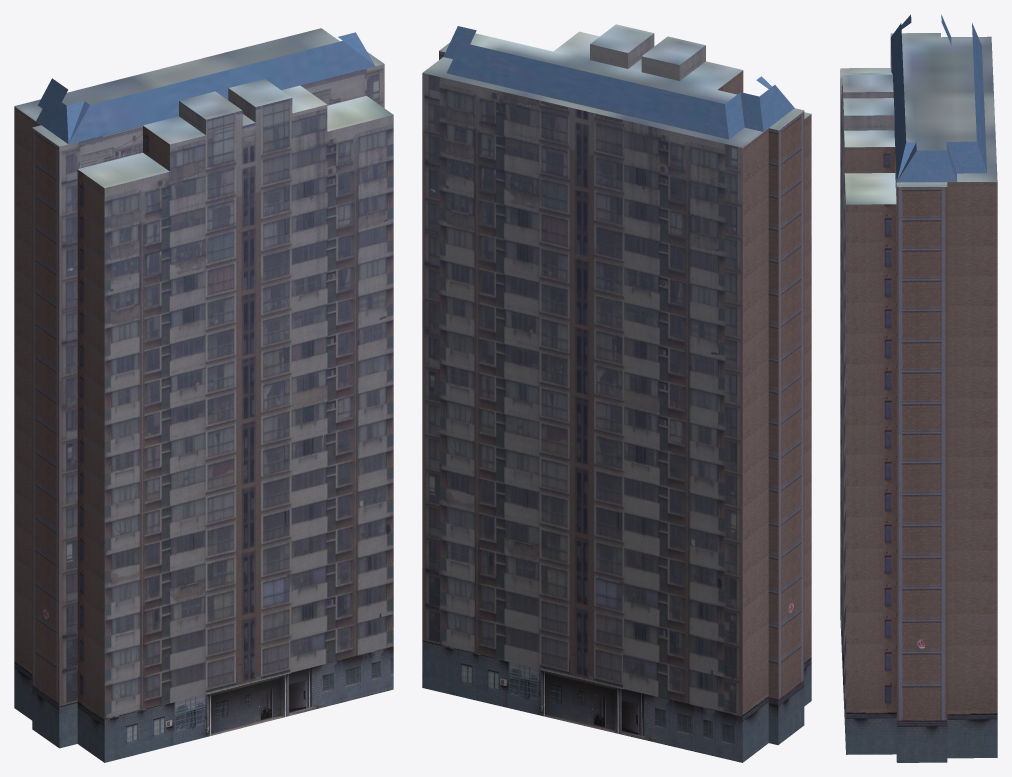
File: jsgy_a6.gltf
3 views of the same model, side by side, from view 1: azimuth 30°, elevation 25°; view 2: azimuth 150°, elevation 25°; view 3: azimuth 270°, elevation 25° (orthographic). The views are drawn at different scales.
Visible parts, largest first — view 1: Mesh01#16; view 2: Mesh01#16; view 3: Mesh01#16.
Part boxes in pixels (left/top/right/bottom): Mesh01#16: left=14, top=28, right=393, bottom=762; Mesh01#16: left=422, top=24, right=811, bottom=762; Mesh01#16: left=840, top=14, right=997, bottom=762.
Bounding box in the file's own units: 0.0361 × 0.066 × 0.0156.
Materials: 3 (3 with a texture image).
